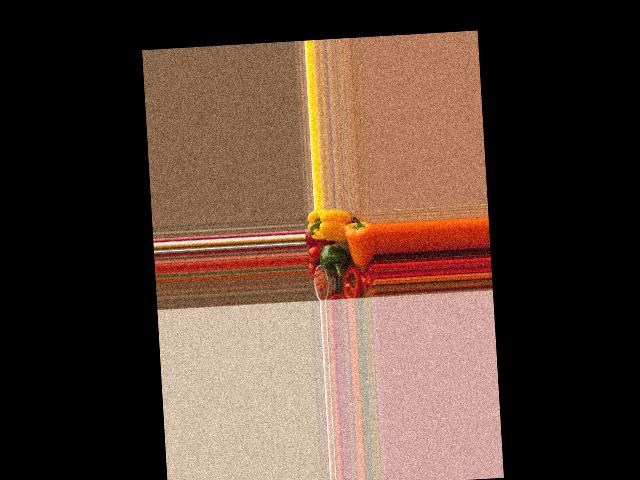bell_pepper: (307, 209, 344, 243)
